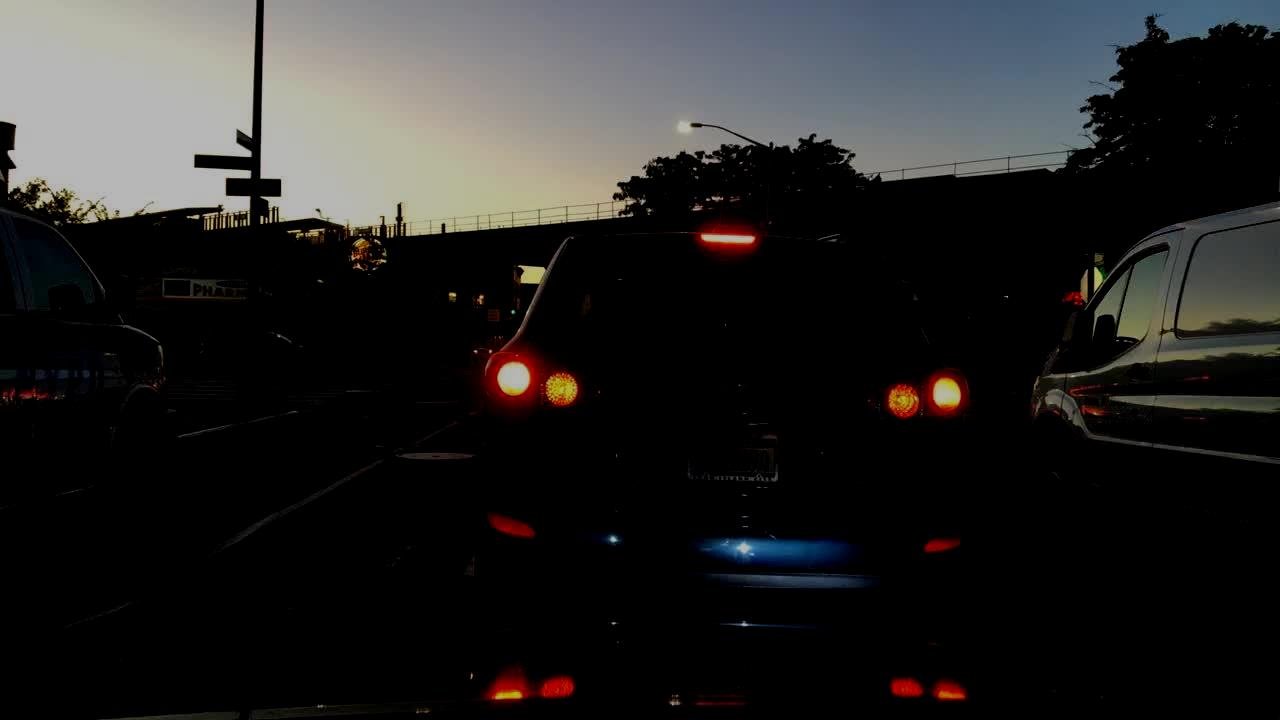Hyundai: (712, 370, 766, 404)
